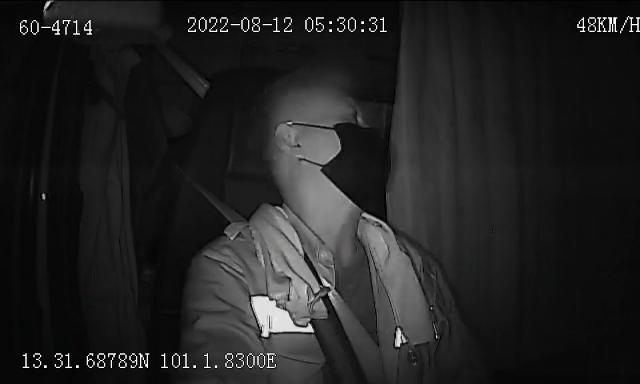Seatbelt: (196, 181, 244, 222)
